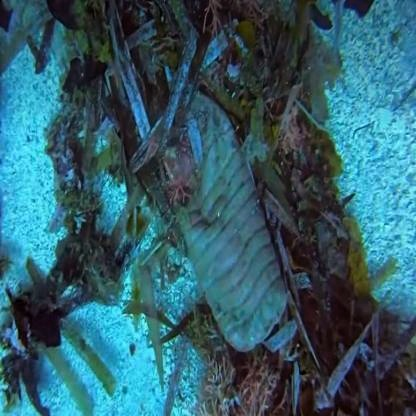pbottle: (155, 95, 296, 360)
